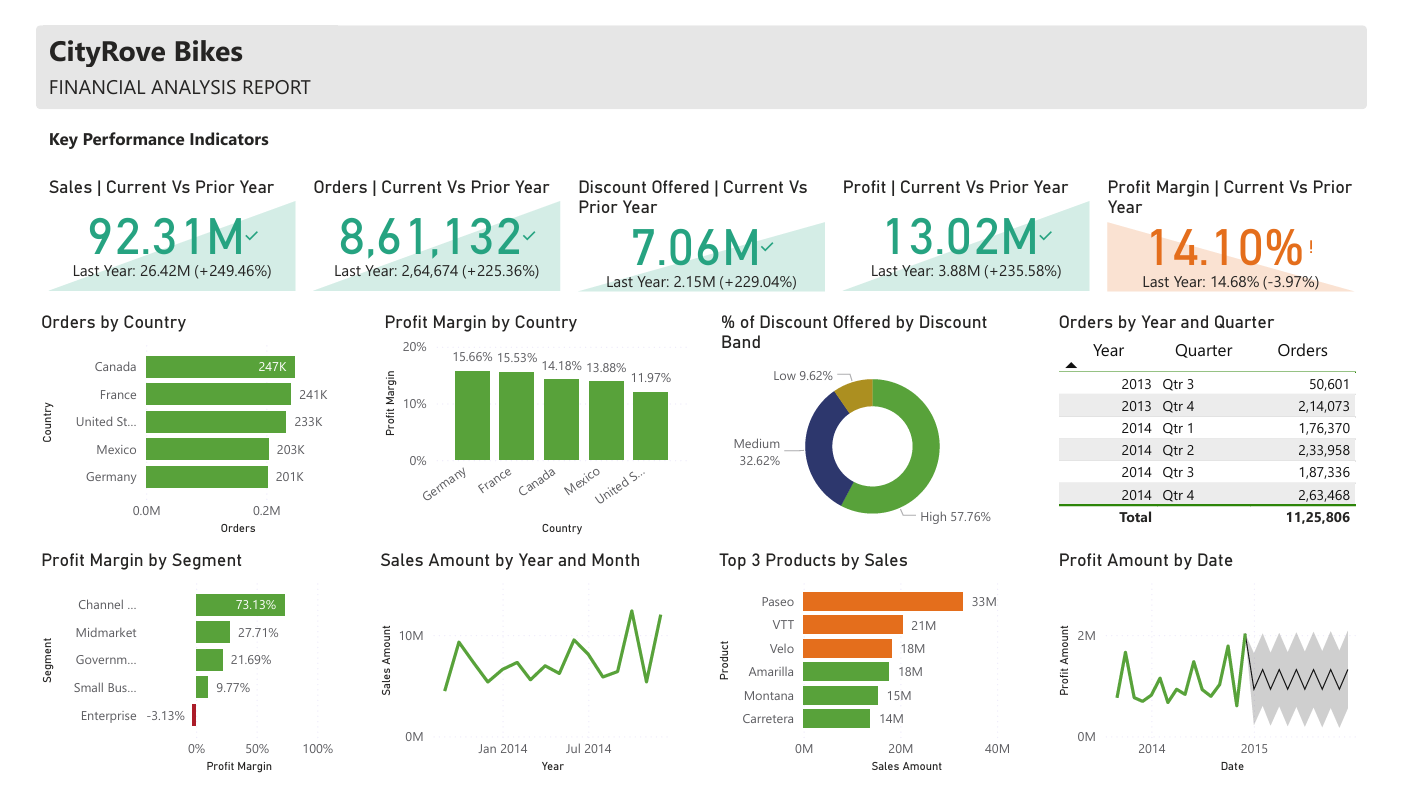

The page's visual inventory and layout, read from the dashboard file:
{"tool":"powerbi","page":{"name":"Page 1","canvas":[1280,720],"ordinal":0},"visuals":[{"type":"shape","box":[11.3,0,1256.5,79.3],"z":0},{"type":"textbox","box":[18,0,278,57],"z":1000},{"type":"textbox","box":[18,40,278,39],"z":2000},{"type":"textbox","box":[17.8,90.7,242.9,38.9],"z":4000},{"type":"kpi","title":"Sales | Current Vs Prior Year","fields":{"Indicator":["Financials.Sales Amount"],"TrendLine":["Date Table.Year"],"Goal":["Financials.Sales Amount LY"]},"box":[17.8,142.5,242.9,113.3],"z":6000},{"type":"kpi","title":"Orders | Current Vs Prior Year","fields":{"TrendLine":["Date Table.Year"],"Indicator":["Financials.Orders"],"Goal":["Financials.Orders LY"]},"box":[268,142.5,242.9,113.3],"z":7000},{"type":"kpi","title":"Discount Offered | Current Vs Prior Year","fields":{"Indicator":["Financials.Discount Offered"],"TrendLine":["Date Table.Year"],"Goal":["Financials.Discount Offered LY"]},"box":[518.2,142.5,242.9,113.3],"z":8000},{"type":"kpi","title":"Profit | Current Vs Prior Year","fields":{"TrendLine":["Date Table.Year"],"Indicator":["Financials.Profit Amount"],"Goal":["Financials.Profit Amount LY"]},"box":[768.3,142.5,242.9,113.3],"z":9000},{"type":"kpi","title":"Profit Margin | Current Vs Prior Year","fields":{"TrendLine":["Date Table.Year"],"Indicator":["Financials.Profit Margin"],"Goal":["Financials.Profit Margin LY"]},"box":[1018.5,142.5,242.9,113.3],"z":10000},{"type":"barChart","fields":{"Y":["Financials.Orders"],"Category":["Financials.Country"]},"box":[11.3,270.4,296.3,215.4],"z":11000},{"type":"columnChart","fields":{"Y":["Financials.Profit Margin"],"Category":["Financials.Country"]},"box":[335.2,270.4,296.3,215.4],"z":12000},{"type":"donutChart","title":"% of Discount Offered by Discount Band","fields":{"Y":["Financials.Discount Offered"],"Category":["Financials.Discount Band"]},"box":[652.5,270.4,296.3,215.4],"z":13000},{"type":"barChart","fields":{"Y":["Financials.Profit Margin"],"Category":["Financials.Segment"]},"box":[11.3,495.5,296.3,215.4],"z":14000},{"type":"lineChart","fields":{"Y":["Financials.Sales Amount"],"Category":["Date Table.Date.Variation.Date Hierarchy.Year","Date Table.Date.Variation.Date Hierarchy.Month"]},"box":[331.4,495.5,296.3,215.4],"z":15000},{"type":"barChart","title":"Top 3 Products by Sales","fields":{"Y":["Financials.Sales Amount"],"Category":["Financials.Product"]},"box":[651.5,495.5,296.3,215.4],"z":16000},{"type":"lineChart","fields":{"Y":["Financials.Profit Amount"],"Category":["Date Table.Date"]},"box":[971.5,495.5,296.3,215.4],"z":17000},{"type":"tableEx","title":"Orders by Year and Quarter","fields":{"Values":["Date Table.Date.Variation.Date Hierarchy.Year","Date Table.Date.Variation.Date Hierarchy.Quarter","Financials.Orders"]},"box":[971.5,270.4,296.3,215.4],"z":18000}]}

Visuals, with their boxes in screenshot pixels (x1, y1, x2, y2), scaled from the page's 1280x720 canvas onto the 1404x811 screenshot:
shape: 12, 0, 1391, 89
textbox: 20, 0, 325, 64
textbox: 20, 45, 325, 89
textbox: 20, 102, 286, 146
"Sales | Current Vs Prior Year" kpi: 20, 161, 286, 288
"Orders | Current Vs Prior Year" kpi: 294, 161, 560, 288
"Discount Offered | Current Vs Prior Year" kpi: 568, 161, 835, 288
"Profit | Current Vs Prior Year" kpi: 843, 161, 1109, 288
"Profit Margin | Current Vs Prior Year" kpi: 1117, 161, 1384, 288
barChart - Financials.Orders x Financials.Country: 12, 305, 337, 547
columnChart - Financials.Profit Margin x Financials.Country: 368, 305, 693, 547
"% of Discount Offered by Discount Band" donutChart: 716, 305, 1041, 547
barChart - Financials.Profit Margin x Financials.Segment: 12, 558, 337, 801
lineChart - Financials.Sales Amount x Date Table.Date.Variation.Date Hierarchy.Year: 364, 558, 689, 801
"Top 3 Products by Sales" barChart: 715, 558, 1040, 801
lineChart - Financials.Profit Amount x Date Table.Date: 1066, 558, 1391, 801
"Orders by Year and Quarter" tableEx: 1066, 305, 1391, 547
